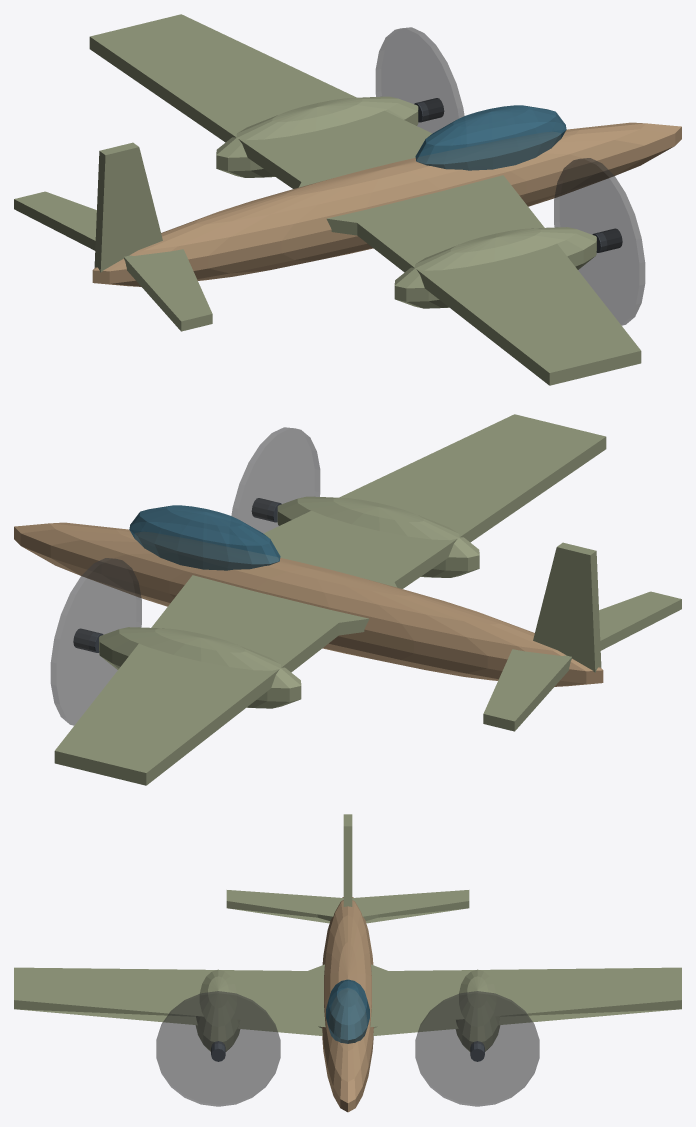
File: de-havilland-mosquito-reference.glb
3 views of the same model, one above another, from view 1: azimuth 30°, elevation 25°; view 2: azimuth 150°, elevation 25°; view 3: azimuth 270°, elevation 25° (orthographic). The views are drawn at different scales.
Visible parts, largest first — view 1: 德·哈维兰蚊式; view 2: 德·哈维兰蚊式; view 3: 德·哈维兰蚊式.
Part boxes in pixels (x1,y1,x2,y2): 德·哈维兰蚊式: (14,14,681,385); 德·哈维兰蚊式: (14,414,681,785); 德·哈维兰蚊式: (14,814,681,1112).
Size of the model in its own units: 12.21 by 4 by 16.5.
